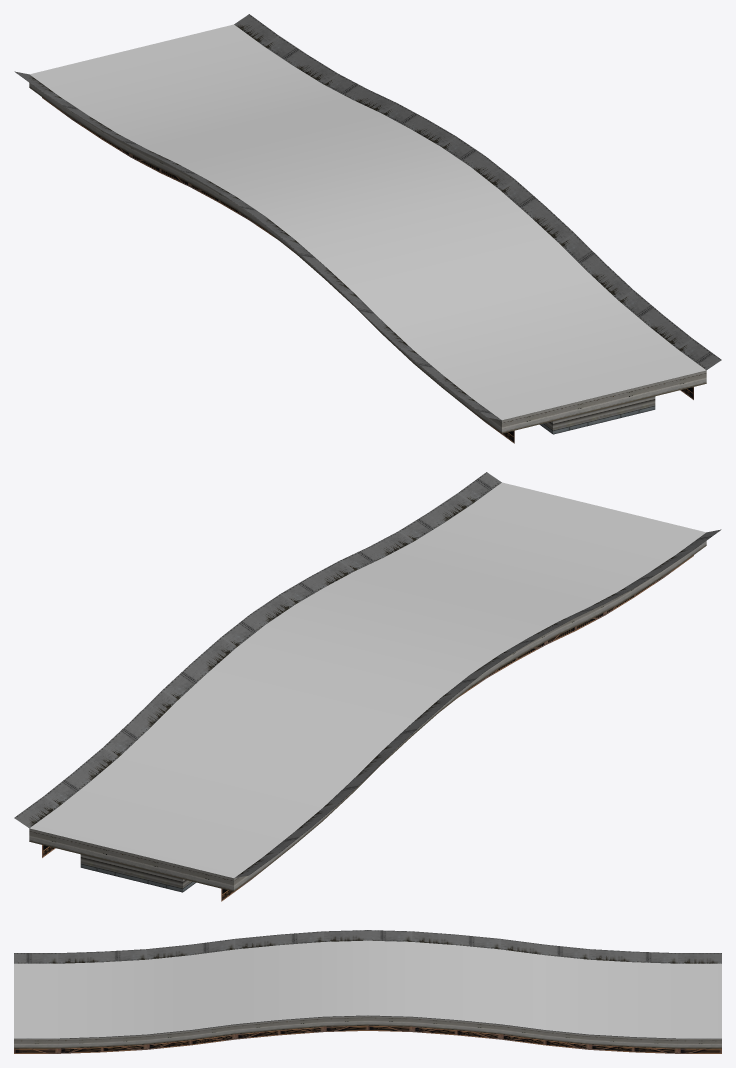
The model's file is StrHill01.fbx.
3 renders of one model, top to bottom at view 1: azimuth 30°, elevation 25°; view 2: azimuth 150°, elevation 25°; view 3: azimuth 270°, elevation 25°, orthographic. The views are drawn at different scales.
Visible parts, largest first — view 1: Empty_Mesh; view 2: Empty_Mesh; view 3: Empty_Mesh.
Part boxes in pixels (box(x1,y1,x2,y2)): Empty_Mesh: box(14, 14, 721, 443); Empty_Mesh: box(14, 472, 721, 901); Empty_Mesh: box(14, 930, 721, 1053).
Size of the model in its own units: 18.4 by 4.8 by 64.
